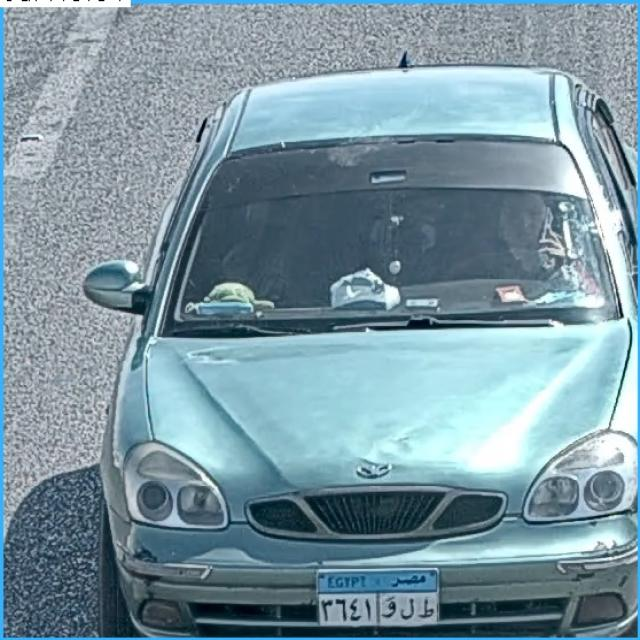windshield: (152, 148, 612, 308)
